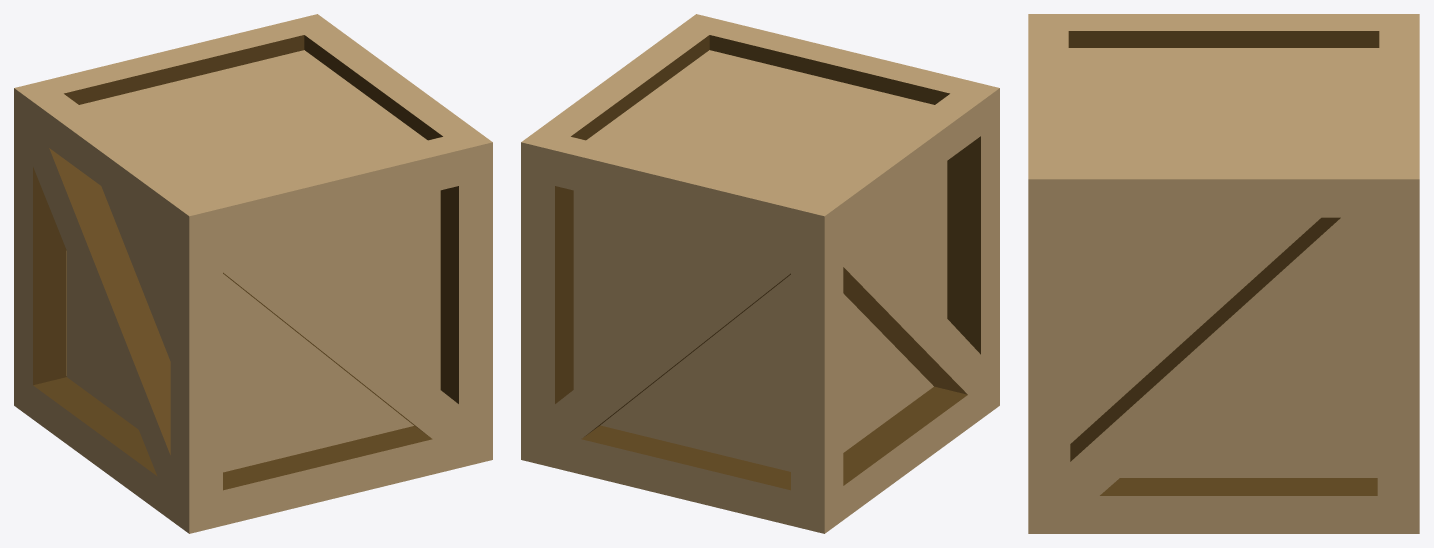
The model's file is wooden_crate.glb.
3 renders of one model, left to right at view 1: azimuth 30°, elevation 25°; view 2: azimuth 150°, elevation 25°; view 3: azimuth 270°, elevation 25°, orthographic. The views are drawn at different scales.
Visible parts, largest first — view 1: Cube; view 2: Cube; view 3: Cube.
Boxes of the visible parts, box(x1,y1,x2,y2) form: Cube: box(14, 14, 492, 533); Cube: box(521, 14, 999, 533); Cube: box(1028, 14, 1419, 533).
Bounding box in the file's own units: 2 × 2 × 2.
